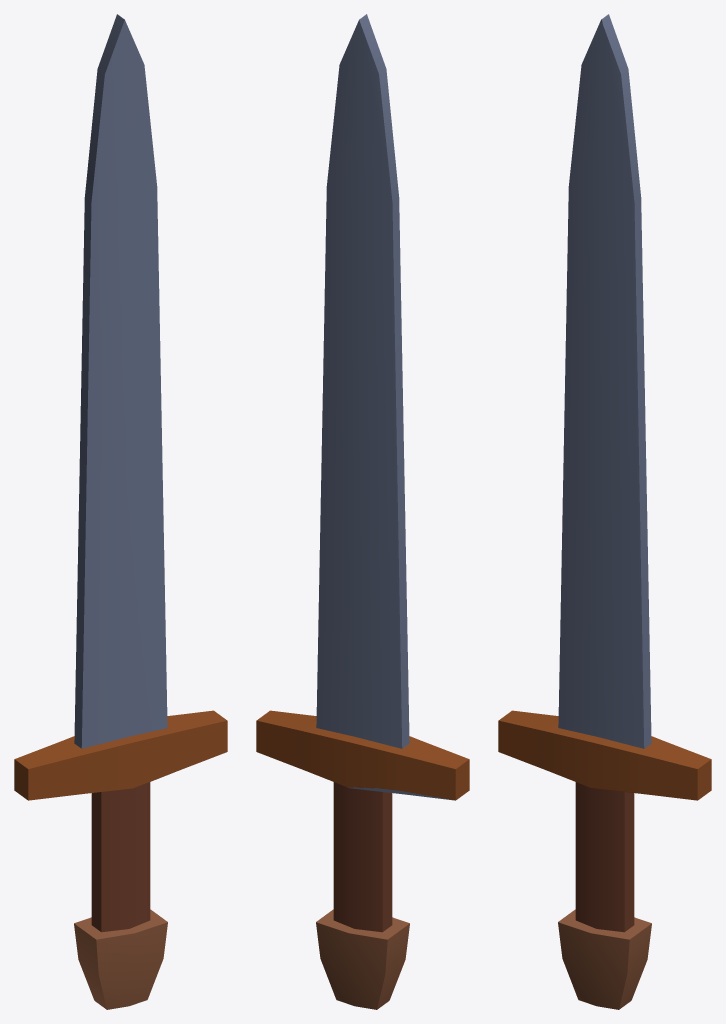
The model's file is ArmingSword.fbx.
The picture shows the model from 3 angles, left to right: view 1: azimuth 30°, elevation 25°; view 2: azimuth 150°, elevation 25°; view 3: azimuth 330°, elevation 25°; orthographic projection.
Visible parts, largest first — view 1: ArmingSword; view 2: ArmingSword; view 3: ArmingSword.
Part boxes in pixels (bbox=[...]): ArmingSword: bbox=[14, 14, 227, 1009]; ArmingSword: bbox=[256, 14, 469, 1009]; ArmingSword: bbox=[498, 14, 711, 1009].
Bounding box in the file's own units: 42.62 × 201 × 10.59.
